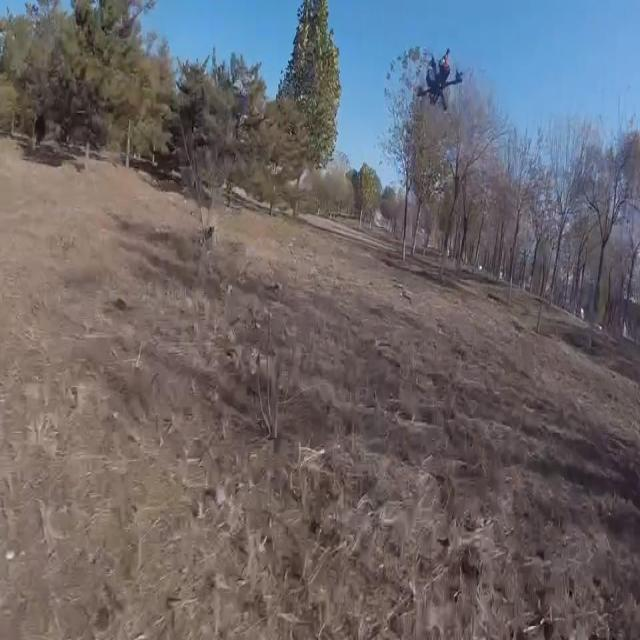drone: (409, 46, 466, 119)
